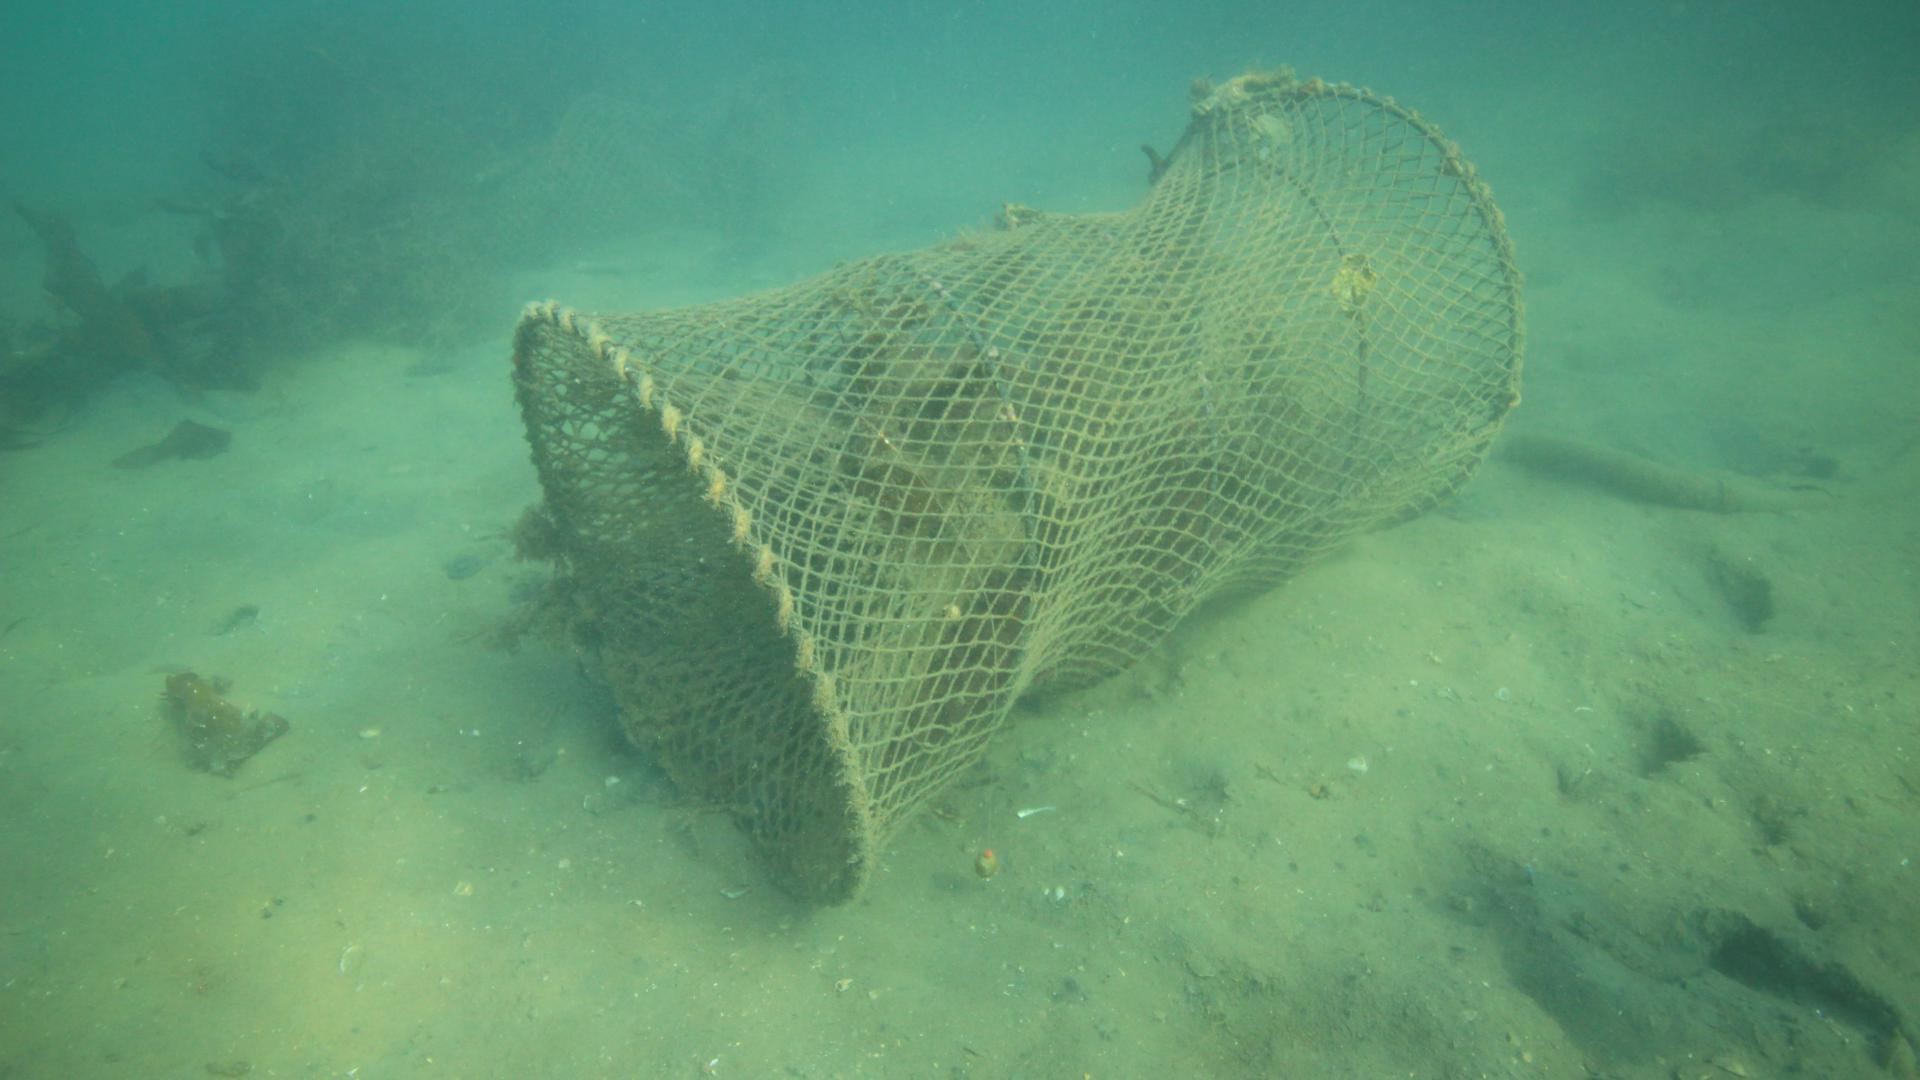spring fish trap: (510, 75, 1530, 911)
